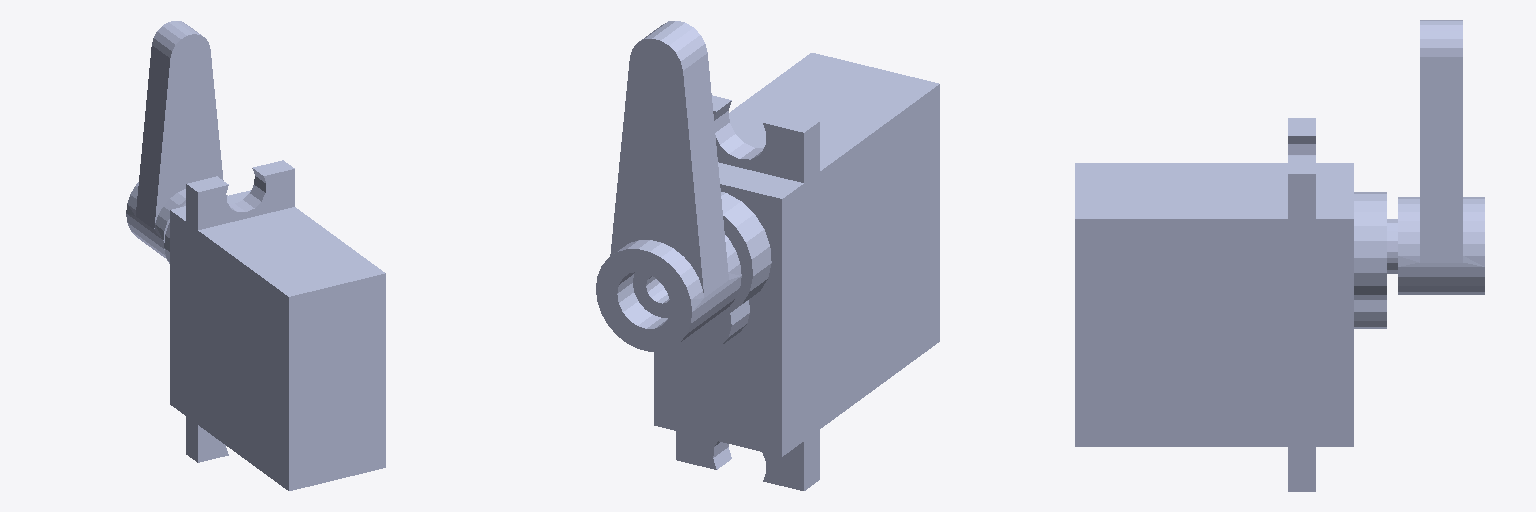
URDF robot description (servo_urdf):
<?xml version="1.0" encoding="utf-8"?>
<!-- This URDF was automatically created by SolidWorks to URDF Exporter! Originally created by [author] ([email redacted]) 
     Commit Version: 1.6.0-1-g15f4949  Build Version: 1.6.7594.29634
     For more information, please see http://wiki.ros.org/sw_urdf_exporter -->
<robot
  name="servo_urdf">
  <link
    name="base_link">
    <inertial>
      <origin
        xyz="0.006 0.013643 0.011736"
        rpy="0 0 0" />
      <mass
        value="0.0075811" />
      <inertia
        ixx="8.2381E-07"
        ixy="2.0055E-23"
        ixz="5.0317E-24"
        iyy="4.4654E-07"
        iyz="-2.5205E-08"
        izz="5.558E-07" />
    </inertial>
    <visual>
      <origin
        xyz="0 0 0"
        rpy="0 0 0" />
      <geometry>
        <mesh
          filename="package://servo_urdf/meshes/base_link.STL" />
      </geometry>
      <material
        name="">
        <color
          rgba="0.79216 0.81961 0.93333 1" />
      </material>
    </visual>
    <collision>
      <origin
        xyz="0 0 0"
        rpy="0 0 0" />
      <geometry>
        <mesh
          filename="package://servo_urdf/meshes/base_link.STL" />
      </geometry>
    </collision>
  </link>
  <link
    name="puntero">
    <inertial>
      <origin
        xyz="0 0.0039611 0.006426"
        rpy="0 0 0" />
      <mass
        value="0.00088336" />
      <inertia
        ixx="4.9735E-08"
        ixy="-7.1667E-26"
        ixz="-8.3799E-25"
        iyy="5.1472E-08"
        iyz="-2.2057E-10"
        izz="7.0214E-09" />
    </inertial>
    <visual>
      <origin
        xyz="0 0 0"
        rpy="0 0 0" />
      <geometry>
        <mesh
          filename="package://servo_urdf/meshes/puntero.STL" />
      </geometry>
      <material
        name="">
        <color
          rgba="0.79216 0.81961 0.93333 1" />
      </material>
    </visual>
    <collision>
      <origin
        xyz="0 0 0"
        rpy="0 0 0" />
      <geometry>
        <mesh
          filename="package://servo_urdf/meshes/puntero.STL" />
      </geometry>
    </collision>
  </link>
  <joint
    name="junta"
    type="continuous">
    <origin
      xyz="0.006 0.0295 0.017406"
      rpy="0 0 0" />
    <parent
      link="base_link" />
    <child
      link="puntero" />
    <axis
      xyz="0 1 0" />
  </joint>
</robot>

--- Facts derived from the render (not from the file) ---
Views: 3 orthographic renders of the robot side by side, from view 1: azimuth 30°, elevation 25°; view 2: azimuth 150°, elevation 25°; view 3: azimuth 270°, elevation 25°.
Robot: servo_urdf — 2 links, 1 joints (1 continuous); root link base_link; default pose: every joint at zero.
Links seen in each view (by area): view 1: base_link, puntero; view 2: base_link, puntero; view 3: base_link, puntero.
Link boxes in pixels (x1=…): base_link: x1=164, y1=160, x2=385, y2=490; puntero: x1=126, y1=21, x2=223, y2=258; base_link: x1=654, y1=53, x2=939, y2=490; puntero: x1=596, y1=21, x2=741, y2=351; base_link: x1=1075, y1=118, x2=1397, y2=491; puntero: x1=1398, y1=20, x2=1484, y2=294.
Size in the robot's own frame: 0.012 by 0.0375 by 0.0444 metres.
Meshes: 2 distinct files referenced, 2 mesh visuals loaded (2 binary STL).